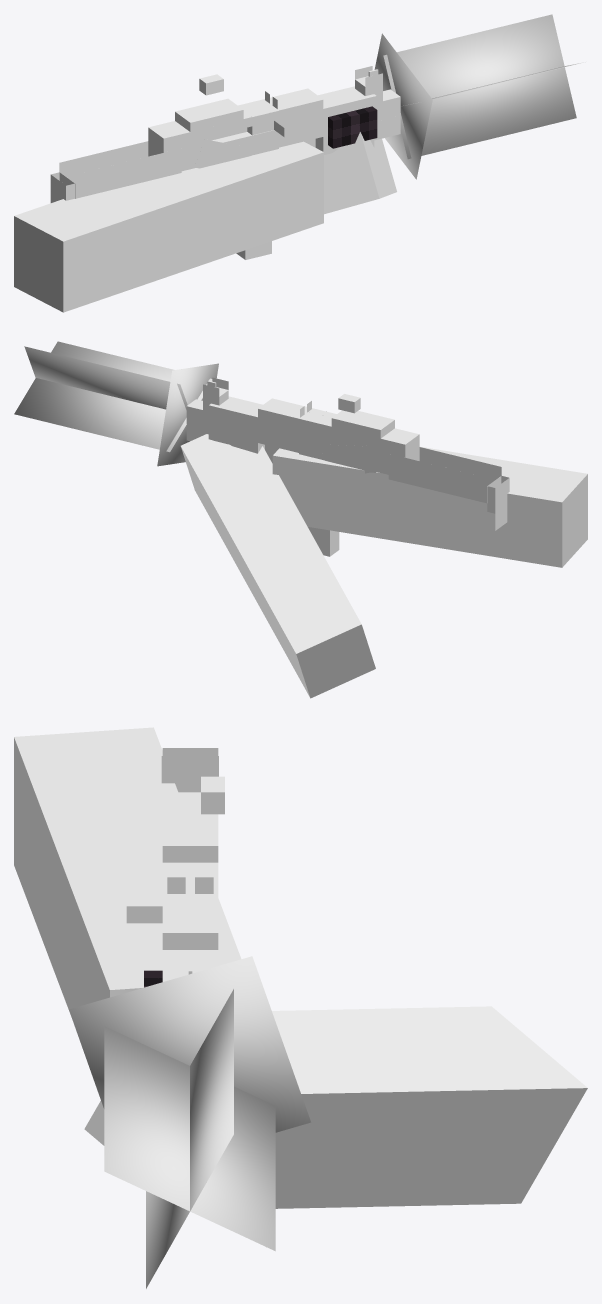
The model's file is lev.sr2.glb.
3 views of the same model, one above another, from view 1: azimuth 30°, elevation 25°; view 2: azimuth 150°, elevation 25°; view 3: azimuth 270°, elevation 25° (orthographic). The views are drawn at different scales.
Parts seen in each view (by area): view 1: rightArmLayerModel, flashModel, cube.001, cube.038, leftArmLayerSlimModel, rightArmLayerSlimModel, p, safe, bar, cube.013, leftArmLayerModel, shellEffect; view 2: rightArmLayerModel, leftArmLayerModel, flashModel, cube.001, leftArmLayerSlimModel, cube.038, p, rightArmLayerSlimModel, selector_full, bar, ammoModel; view 3: leftArmLayerModel, flashModel, rightArmLayerModel, cube.001, p, cube.038, leftArmLayerSlimModel, rightArmLayerSlimModel, shellEffect.
Boxes of the visible parts, box(x1,y1,x2,y2) form: rightArmLayerModel: box(14, 146, 323, 312); flashModel: box(374, 14, 585, 179); cube.001: box(148, 66, 382, 171); cube.038: box(50, 141, 181, 202); leftArmLayerSlimModel: box(324, 132, 392, 214); rightArmLayerSlimModel: box(14, 141, 311, 289); p: box(175, 98, 243, 131); safe: box(194, 139, 253, 168); bar: box(374, 89, 400, 140); cube.013: box(247, 110, 278, 135); leftArmLayerModel: box(360, 132, 396, 193); shellEffect: box(199, 74, 223, 95); rightArmLayerModel: box(272, 446, 587, 567); leftArmLayerModel: box(180, 438, 375, 698); flashModel: box(14, 341, 218, 466); cube.001: box(203, 377, 419, 474); leftArmLayerSlimModel: box(197, 434, 369, 677); cube.038: box(388, 447, 509, 530); p: box(331, 410, 394, 438); rightArmLayerSlimModel: box(273, 448, 581, 566); selector_full: box(323, 444, 376, 472); bar: box(186, 399, 208, 441); ammoModel: box(308, 527, 339, 556); leftArmLayerModel: box(272, 1006, 587, 1208); flashModel: box(69, 956, 310, 1288); rightArmLayerModel: box(14, 727, 233, 1011); cube.001: box(144, 792, 218, 987); p: box(162, 799, 218, 862); cube.038: box(161, 748, 218, 792); leftArmLayerSlimModel: box(84, 1027, 333, 1145); rightArmLayerSlimModel: box(129, 937, 241, 984); shellEffect: box(201, 776, 224, 814).
Size of what is drawn, in the model's own units: 24.29 by 10.47 by 11.92.
6 materials, 4 textured.
